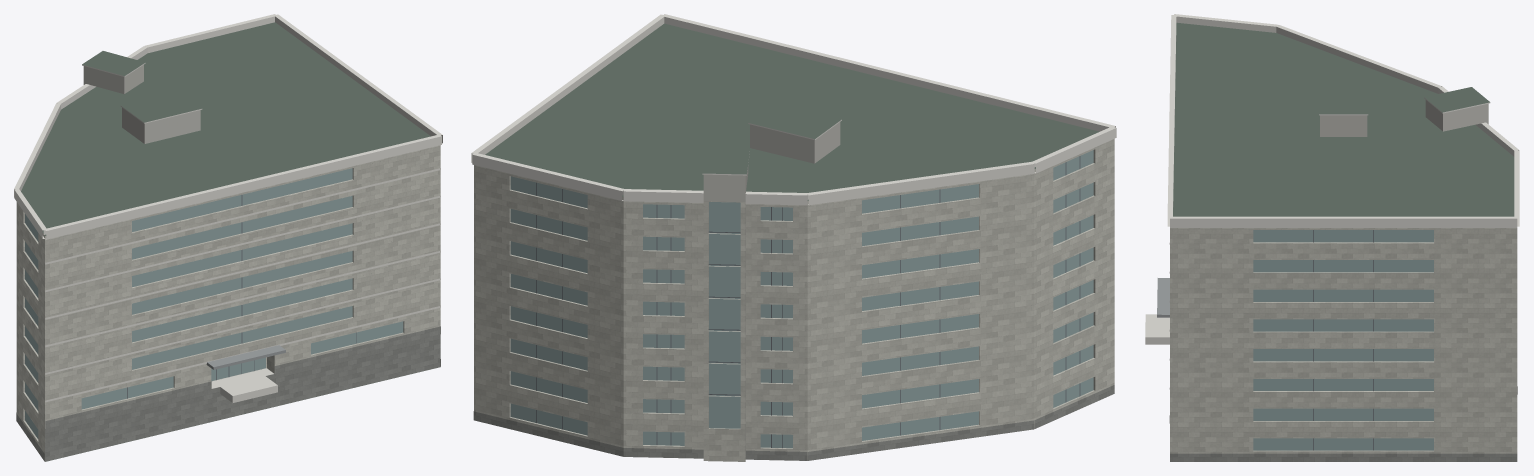
3 views of the same model, side by side, from view 1: azimuth 30°, elevation 25°; view 2: azimuth 150°, elevation 25°; view 3: azimuth 270°, elevation 25° (orthographic). The views are drawn at different scales.
Visible parts, largest first — view 1: b75_1__wall, b75_1__roof, b75_1__glass, b75_1__trim, b75_1__base, b75_1__wall2, b75_1__entranceStair, b75_1__canopy; view 2: b75_1__wall, b75_1__roof, b75_1__glass, b75_1__trim, b75_1__base, b75_1__wall2, b75_1__frame; view 3: b75_1__wall, b75_1__roof, b75_1__glass, b75_1__trim, b75_1__base, b75_1__wall2, b75_1__entranceStair, b75_1__canopy.
Boxes of the visible parts, x1,y1,x2,y2 form: b75_1__wall: [16, 145, 440, 460]; b75_1__roof: [21, 22, 440, 461]; b75_1__glass: [25, 168, 403, 438]; b75_1__trim: [14, 14, 442, 402]; b75_1__base: [16, 326, 440, 461]; b75_1__wall2: [83, 65, 200, 143]; b75_1__entranceStair: [211, 368, 277, 402]; b75_1__canopy: [206, 345, 285, 369]; b75_1__wall: [474, 139, 1114, 461]; b75_1__roof: [485, 23, 1099, 457]; b75_1__glass: [510, 150, 1093, 448]; b75_1__trim: [471, 14, 1116, 205]; b75_1__base: [473, 385, 1114, 460]; b75_1__wall2: [703, 122, 840, 450]; b75_1__frame: [536, 156, 1080, 448]; b75_1__wall: [1170, 228, 1517, 453]; b75_1__roof: [1173, 22, 1514, 216]; b75_1__glass: [1253, 230, 1433, 450]; b75_1__trim: [1167, 14, 1519, 389]; b75_1__base: [1169, 386, 1517, 461]; b75_1__wall2: [1320, 100, 1488, 136]; b75_1__entranceStair: [1145, 314, 1169, 344]; b75_1__canopy: [1157, 278, 1169, 317].
Bounding box in the file's own units: 53.15 × 31.97 × 41.08.
Materials: 10 (2 with a texture image).
